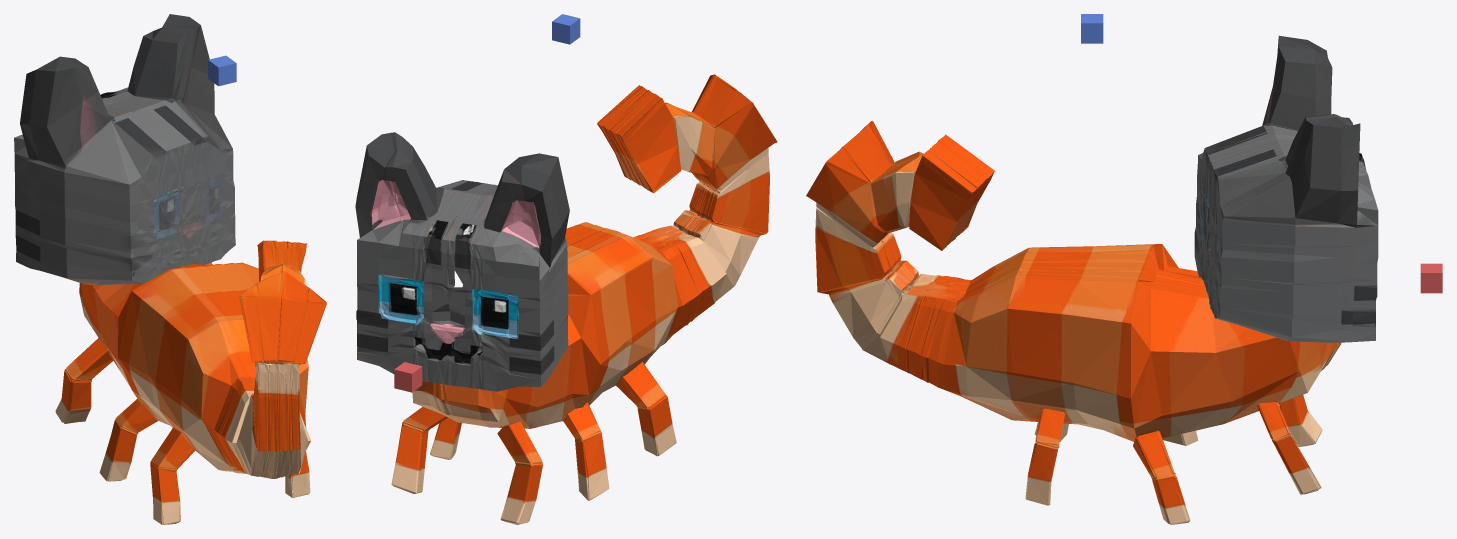
The model's file is TrippiTroppi.glb.
3 views of the same model, side by side, from view 1: azimuth 30°, elevation 25°; view 2: azimuth 150°, elevation 25°; view 3: azimuth 270°, elevation 25° (orthographic). The views are drawn at different scales.
Parts seen in each view (by area): view 1: TrippiTroppi_Body, TrippiTroppi_Leg2, TrippiTroppi_Top; view 2: TrippiTroppi_Body, TrippiTroppi_Leg2, TrippiTroppi_Leg1, TrippiTroppi_Top, TrippiTroppi_Front; view 3: TrippiTroppi_Body, TrippiTroppi_Leg1.
Boxes of the visible parts, bbox=[...] form: TrippiTroppi_Body: bbox=[14, 14, 326, 524]; TrippiTroppi_Leg2: bbox=[99, 421, 137, 481]; TrippiTroppi_Top: bbox=[208, 55, 236, 86]; TrippiTroppi_Body: bbox=[355, 74, 777, 524]; TrippiTroppi_Leg2: bbox=[575, 433, 609, 500]; TrippiTroppi_Leg1: bbox=[430, 417, 461, 459]; TrippiTroppi_Top: bbox=[552, 14, 580, 44]; TrippiTroppi_Front: bbox=[394, 362, 422, 392]; TrippiTroppi_Body: bbox=[806, 35, 1378, 505]; TrippiTroppi_Leg1: bbox=[1135, 449, 1190, 524].
Size of the model in its own units: 2.61 by 5.72 by 7.16.
1 material, 1 textured.
